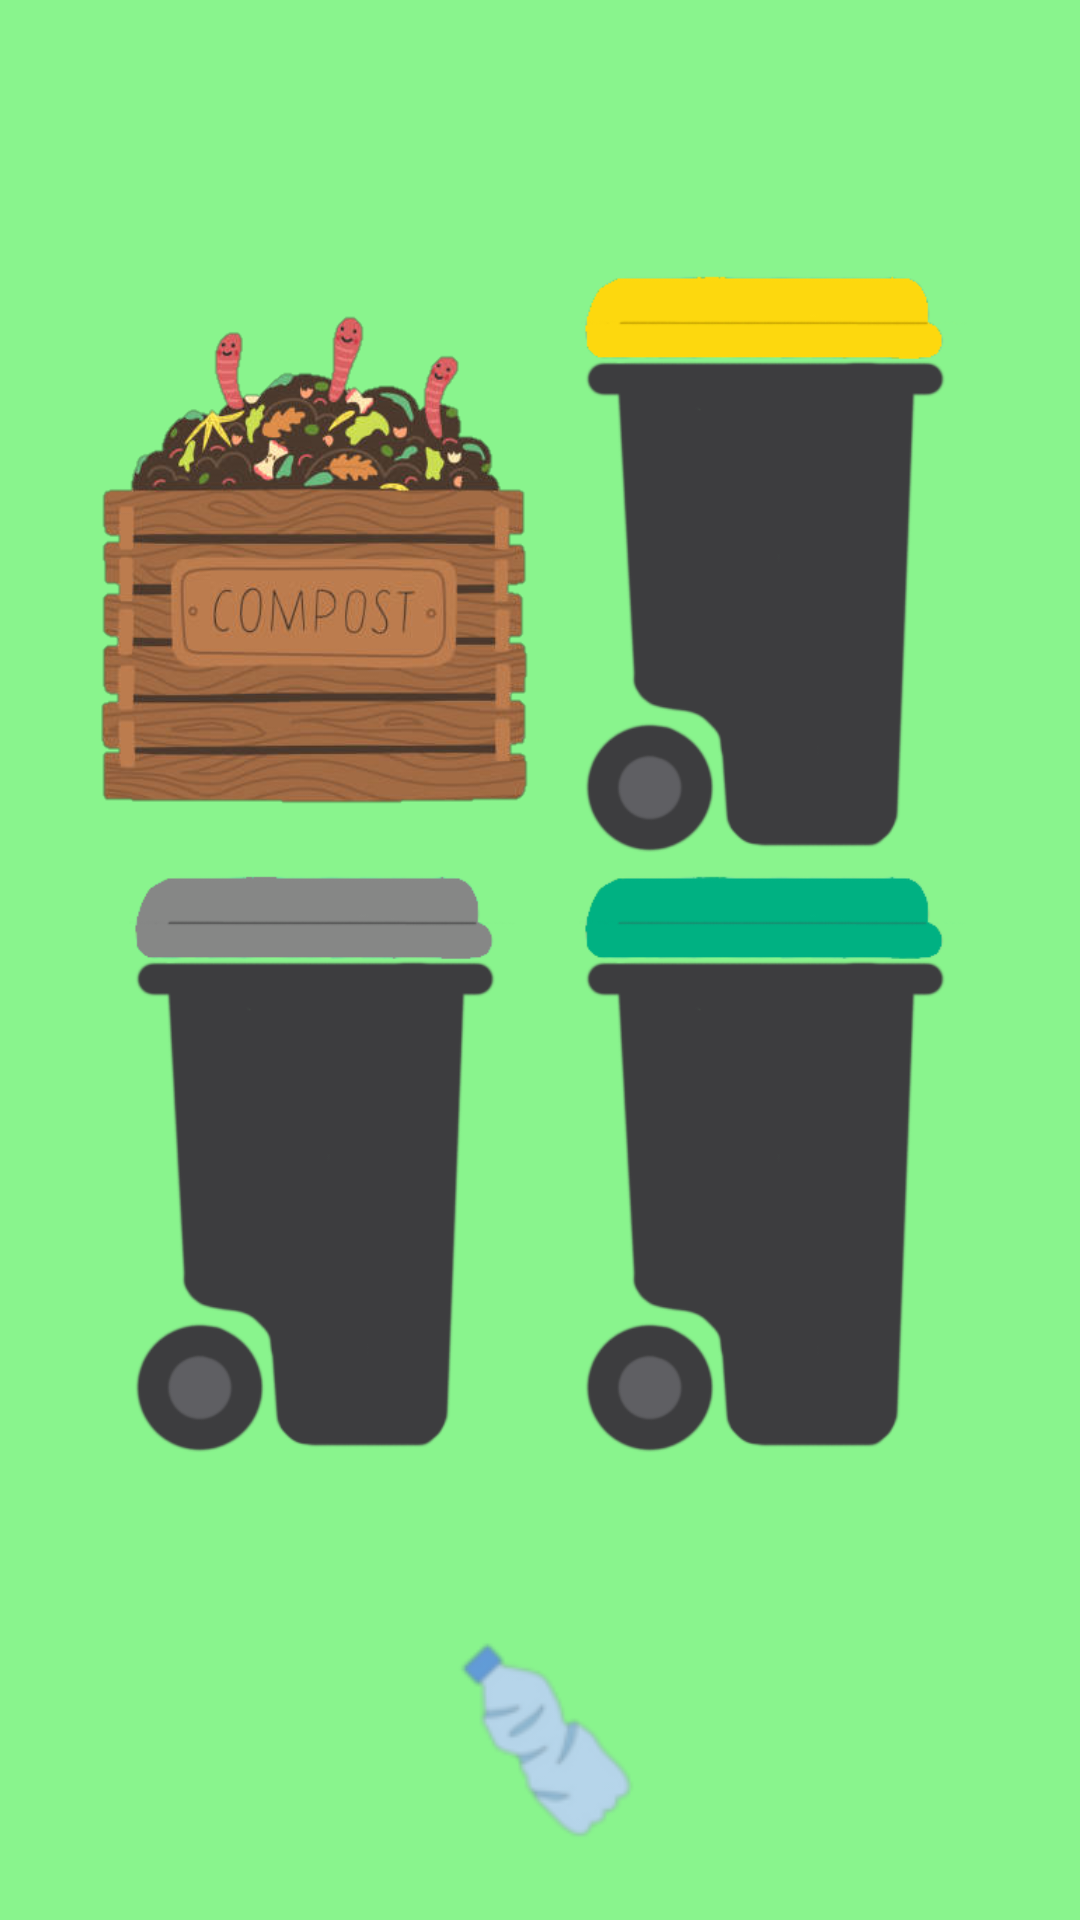

Where icons sit on this 1080px×1920px app screen, as (x1, y1, x2, y2):
bouteille: (463, 1644, 630, 1835)
